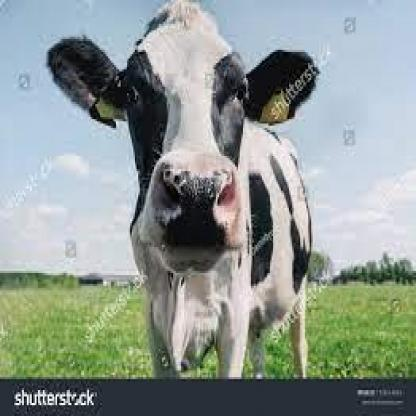cow: (46, 0, 321, 377)
